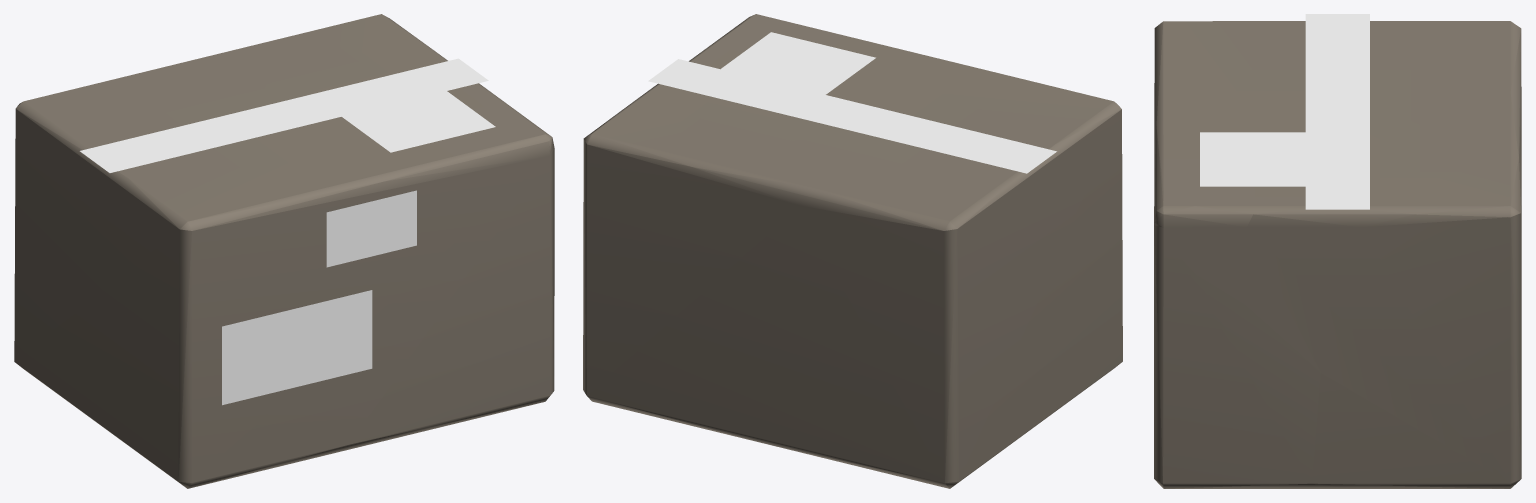
The model's file is carton.glb.
The picture shows the model from 3 angles, left to right: view 1: azimuth 30°, elevation 25°; view 2: azimuth 150°, elevation 25°; view 3: azimuth 270°, elevation 25°; orthographic projection. The views are drawn at different scales.
Visible parts, largest first — view 1: carton, carton_decal; view 2: carton, carton_decal; view 3: carton, carton_decal.
Boxes of the visible parts, box(x1,y1,x2,y2) form: carton: box(14, 14, 554, 488); carton_decal: box(80, 58, 495, 405); carton: box(583, 14, 1122, 488); carton_decal: box(648, 32, 1056, 173); carton: box(1154, 21, 1521, 488); carton_decal: box(1200, 14, 1369, 209).
Bounding box in the file's own units: 0.504 × 0.3432 × 0.403.
